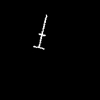double_crochet: (34, 15, 46, 48)
